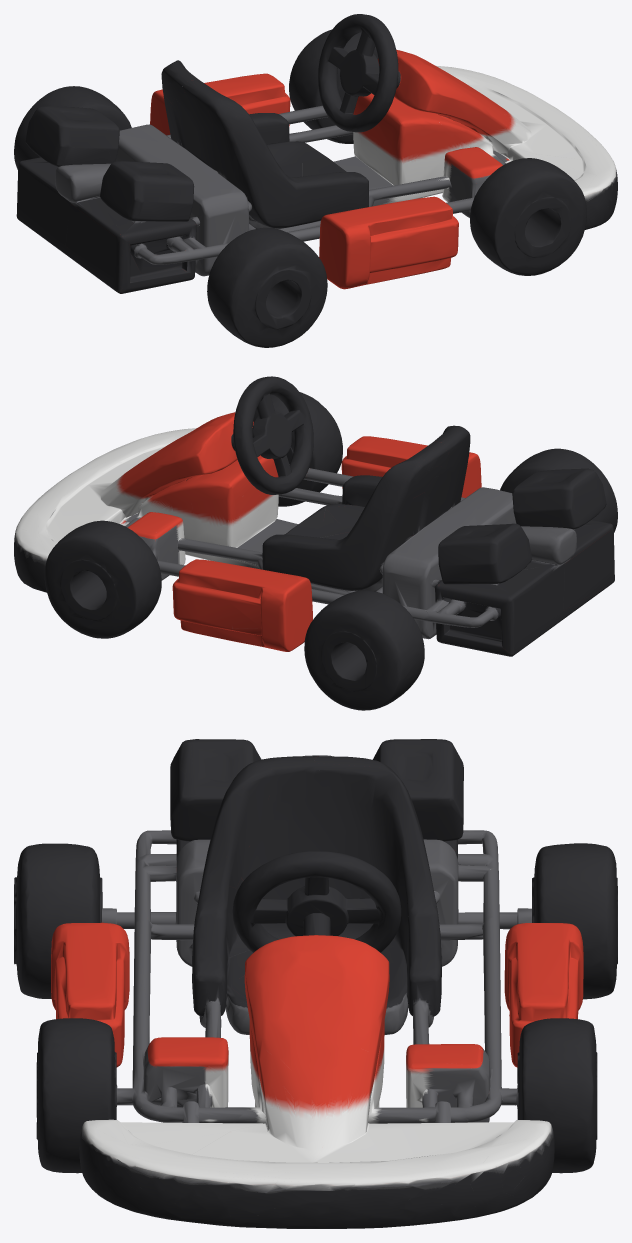
The model's file is kart.glb.
3 views of the same model, one above another, from view 1: azimuth 30°, elevation 25°; view 2: azimuth 150°, elevation 25°; view 3: azimuth 270°, elevation 25° (orthographic). The views are drawn at different scales.
Visible parts, largest first — view 1: tripo_part_19, tripo_part_7, tripo_part_41, tripo_part_2, tripo_part_16, tripo_part_3; view 2: tripo_part_19, tripo_part_3, tripo_part_16, tripo_part_2, tripo_part_41, tripo_part_7; view 3: tripo_part_19, tripo_part_2, tripo_part_16, tripo_part_41, tripo_part_7, tripo_part_3.
Part boxes in pixels (x1,y1,x2,y2): tripo_part_19: (16, 49, 617, 293); tripo_part_7: (207, 227, 327, 347); tripo_part_41: (470, 158, 586, 275); tripo_part_2: (318, 14, 400, 132); tripo_part_16: (289, 29, 378, 143); tripo_part_3: (14, 86, 131, 169); tripo_part_19: (14, 412, 614, 656); tripo_part_3: (304, 590, 424, 710); tripo_part_16: (44, 520, 161, 638); tripo_part_2: (231, 376, 313, 494); tripo_part_41: (253, 392, 342, 506); tripo_part_7: (500, 448, 617, 532); tripo_part_19: (51, 739, 583, 1228); tripo_part_2: (232, 851, 401, 952); tripo_part_16: (517, 1018, 597, 1173); tripo_part_41: (36, 1018, 116, 1173); tripo_part_7: (14, 843, 102, 998); tripo_part_3: (532, 843, 617, 999).
Bounding box in the file's own units: 0.9994 × 0.3774 × 0.7616.
Materials: 6 (6 with a texture image).
